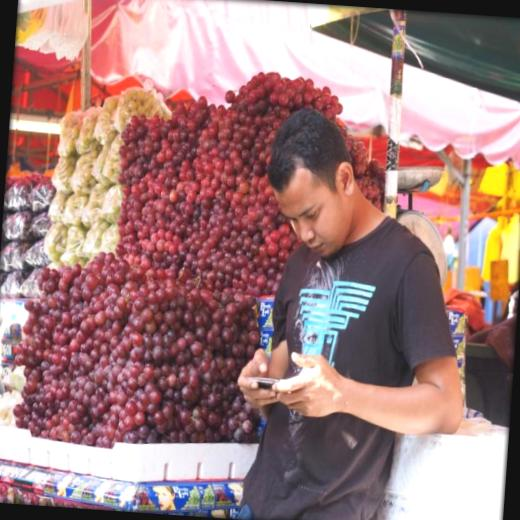Orange: (8, 53, 394, 468)
